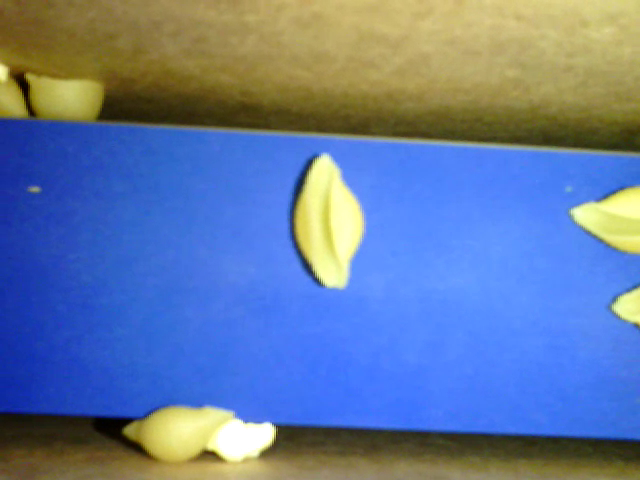shell: (281, 153, 363, 290), (118, 403, 239, 466), (568, 181, 638, 255), (25, 71, 106, 126)
